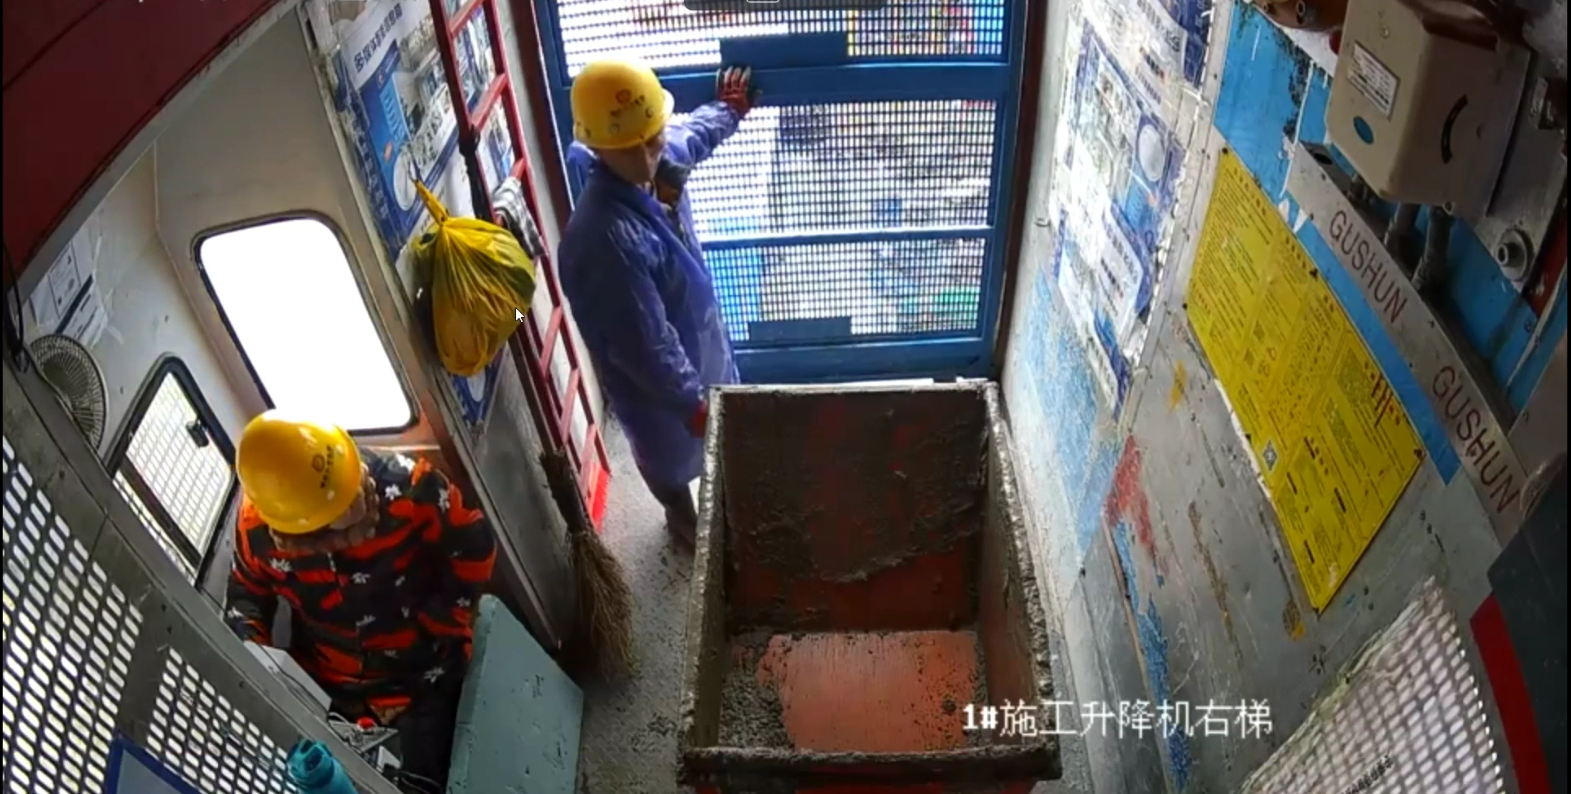person: (215, 404, 500, 791), (548, 59, 769, 553)
